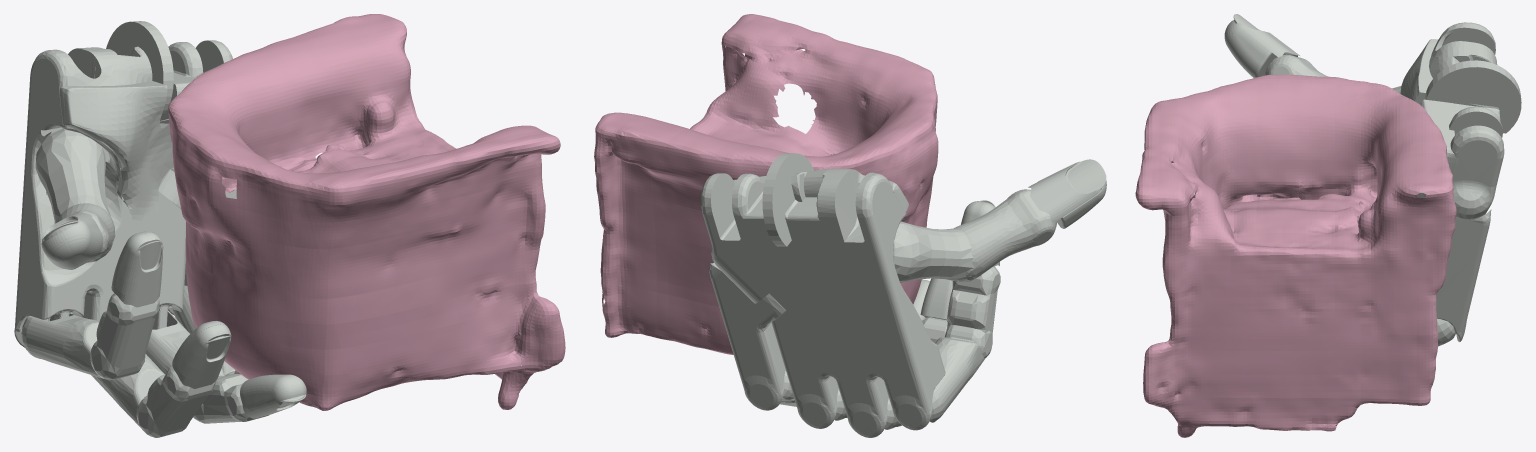
The picture shows the model from 3 angles, left to right: view 1: azimuth 30°, elevation 25°; view 2: azimuth 150°, elevation 25°; view 3: azimuth 270°, elevation 25°; orthographic projection. The views are drawn at different scales.
Visible parts, largest first — view 1: world, hand; view 2: hand, world; view 3: world, hand.
Boxes of the visible parts, x1,y1,x2,y2 form: world: (168,14,565,410); hand: (14,21,306,437); hand: (701,153,1106,437); world: (594,14,938,354); world: (1135,74,1456,437); hand: (1224,14,1521,346).
Size of the model in its own units: 0.1973 by 0.138 by 0.1565.
